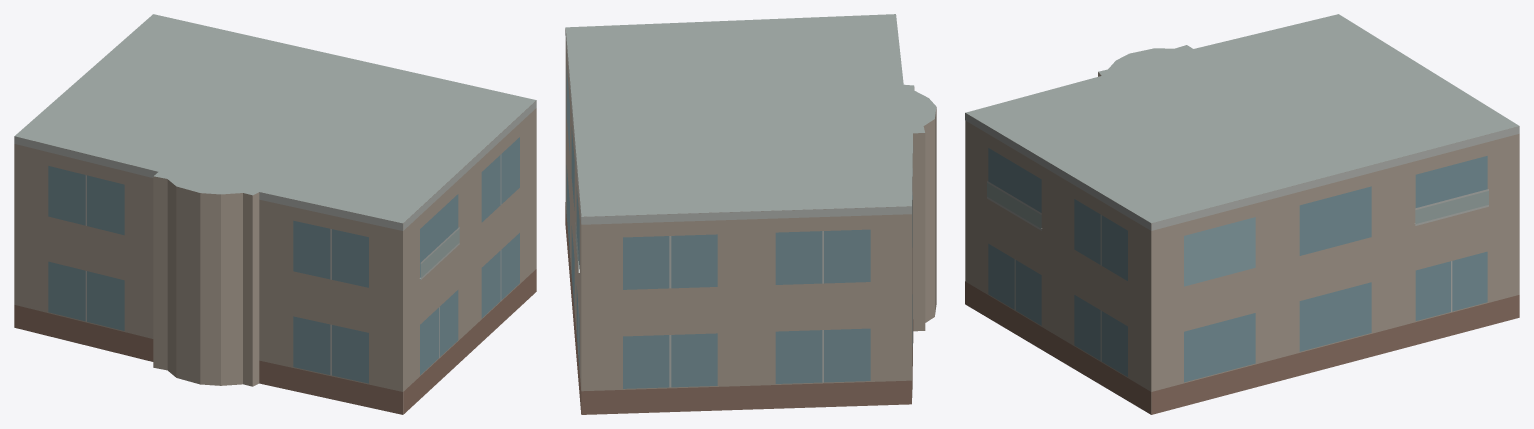
The model's file is survey-upis-32888656.glb.
3 renders of one model, left to right at view 1: azimuth 30°, elevation 25°; view 2: azimuth 150°, elevation 25°; view 3: azimuth 270°, elevation 25°, orthographic. The views are drawn at different scales.
Visible parts, largest first — view 1: survey-upis-32888656.tmp; view 2: survey-upis-32888656.tmp; view 3: survey-upis-32888656.tmp.
Part boxes in pixels (x1=…): survey-upis-32888656.tmp: x1=14, y1=14, x2=536, y2=414; survey-upis-32888656.tmp: x1=565, y1=14, x2=936, y2=414; survey-upis-32888656.tmp: x1=965, y1=14, x2=1519, y2=414.
Size of the model in its own units: 14.3 by 6.1 by 16.01.
